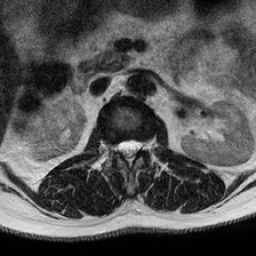CCS_normal: (124, 133, 133, 172)
LFS_normal: (141, 134, 148, 156)
LLS_normal: (133, 134, 141, 154)
RFS_normal: (109, 137, 118, 157)
RLS_normal: (117, 134, 124, 158)
